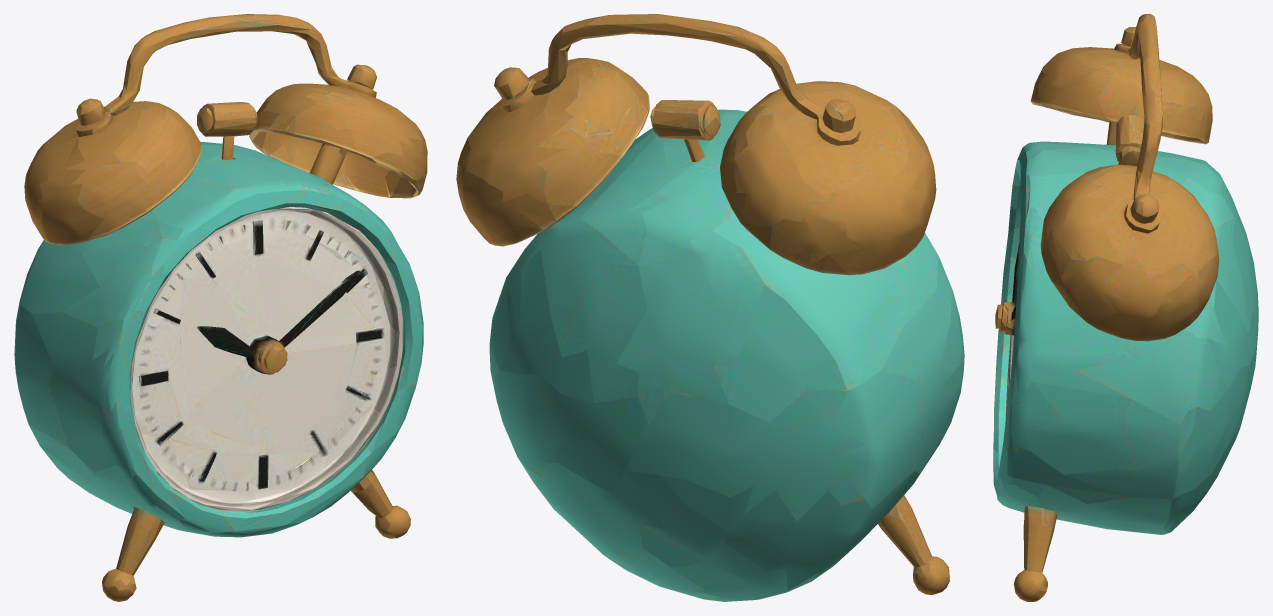
File: foe_clock.gltf
3 views of the same model, side by side, from view 1: azimuth 30°, elevation 25°; view 2: azimuth 150°, elevation 25°; view 3: azimuth 270°, elevation 25° (orthographic). The views are drawn at different scales.
Visible parts, largest first — view 1: foe_clock; view 2: foe_clock; view 3: foe_clock.
Part boxes in pixels (<box>): foe_clock: <box>14,14,427,601</box>; foe_clock: <box>456,14,964,601</box>; foe_clock: <box>993,14,1258,601</box>.
Size of the model in its own units: 1.11 by 1.4 by 0.6733.
Materials: 1 (1 with a texture image).
